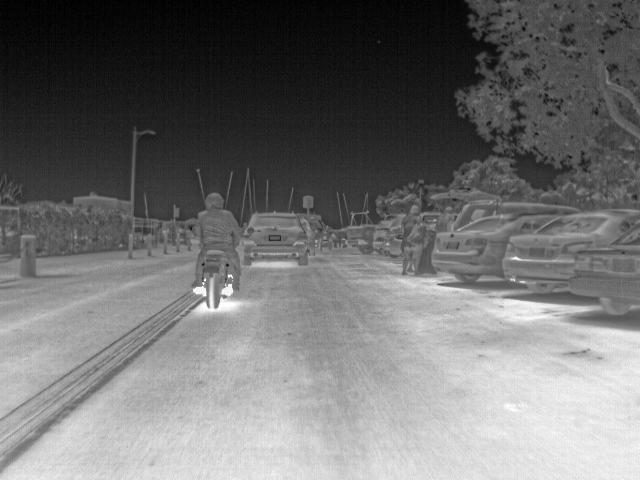car: (502, 206, 638, 292), (431, 212, 559, 283), (565, 214, 637, 317), (441, 186, 581, 230), (241, 211, 310, 265), (312, 220, 339, 252), (368, 222, 394, 254), (345, 226, 372, 256)
person: (191, 190, 244, 285), (398, 203, 428, 274)
